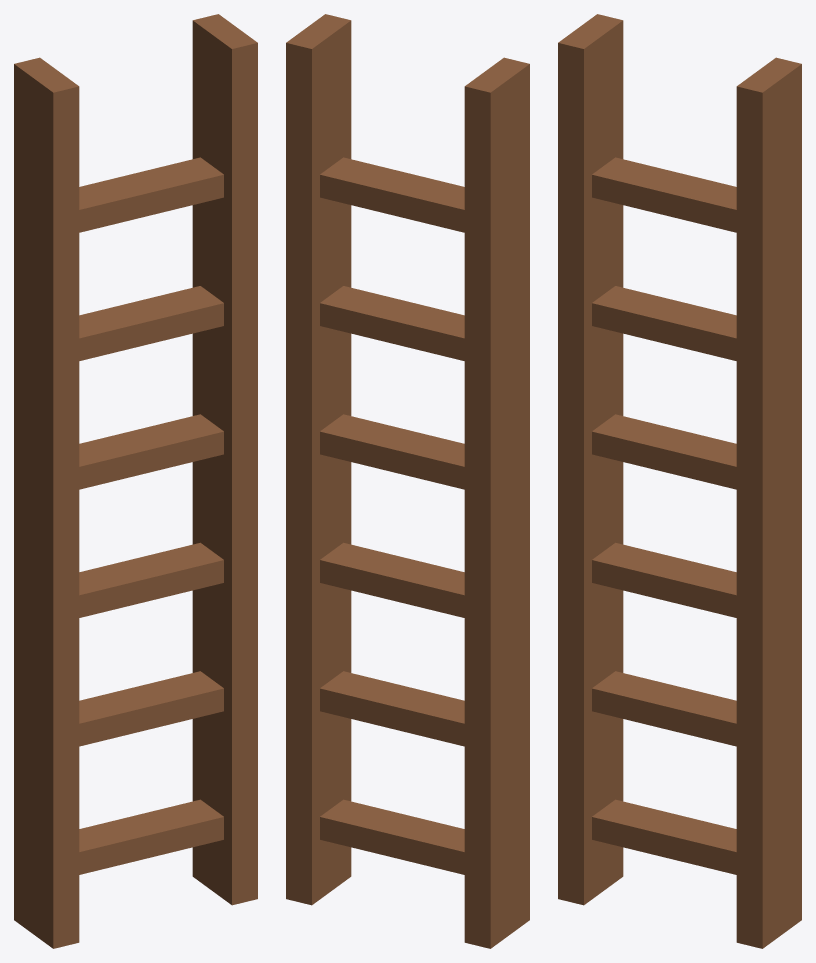
Rendered from board_escada.glb.
3 views of the same model, side by side, from view 1: azimuth 30°, elevation 25°; view 2: azimuth 150°, elevation 25°; view 3: azimuth 330°, elevation 25° (orthographic).
Visible parts, largest first — view 1: board_escada; view 2: board_escada; view 3: board_escada.
Boxes of the visible parts, box(x1,y1,x2,y2) form: board_escada: box(14, 14, 257, 948); board_escada: box(286, 14, 529, 948); board_escada: box(558, 14, 801, 948).
Bounding box in the file's own units: 1.5 × 6 × 0.5.
